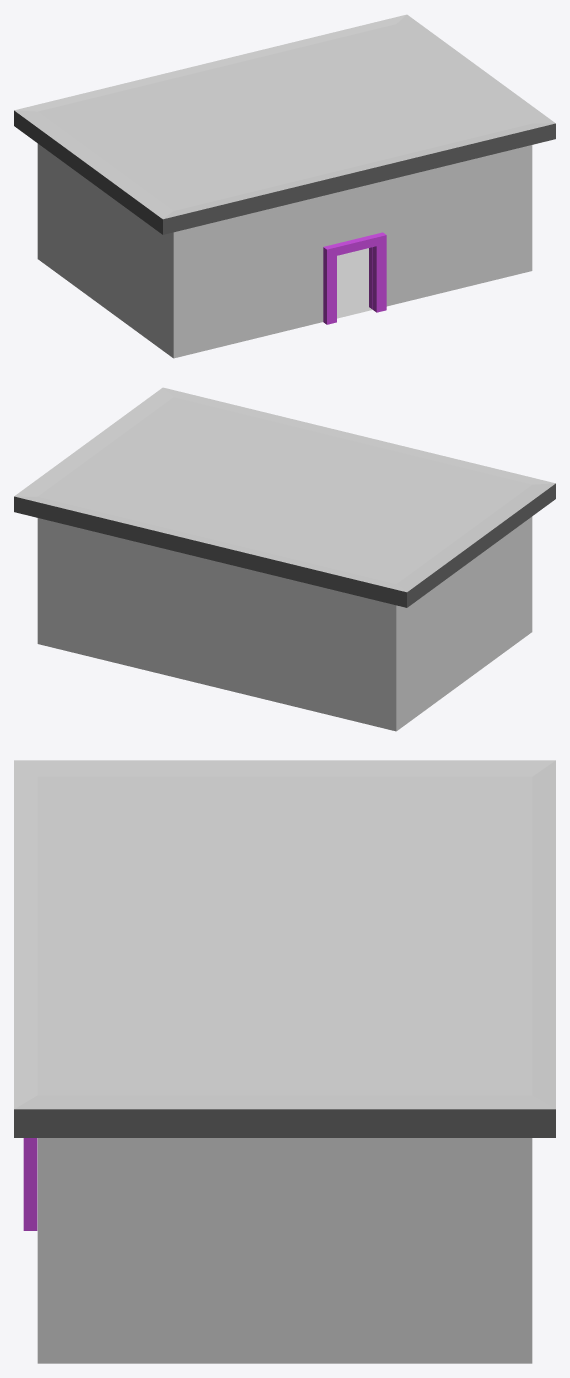
The model's file is Room.fbx.
3 renders of one model, top to bottom at view 1: azimuth 30°, elevation 25°; view 2: azimuth 150°, elevation 25°; view 3: azimuth 270°, elevation 25°, orthographic. The views are drawn at different scales.
Visible parts, largest first — view 1: Cube; view 2: Cube; view 3: Cube.
Boxes of the visible parts, box(x1,y1,x2,y2) form: Cube: box(14, 14, 555, 358); Cube: box(14, 387, 555, 731); Cube: box(14, 760, 555, 1363).
Bounding box in the file's own units: 558 × 201 × 366.
